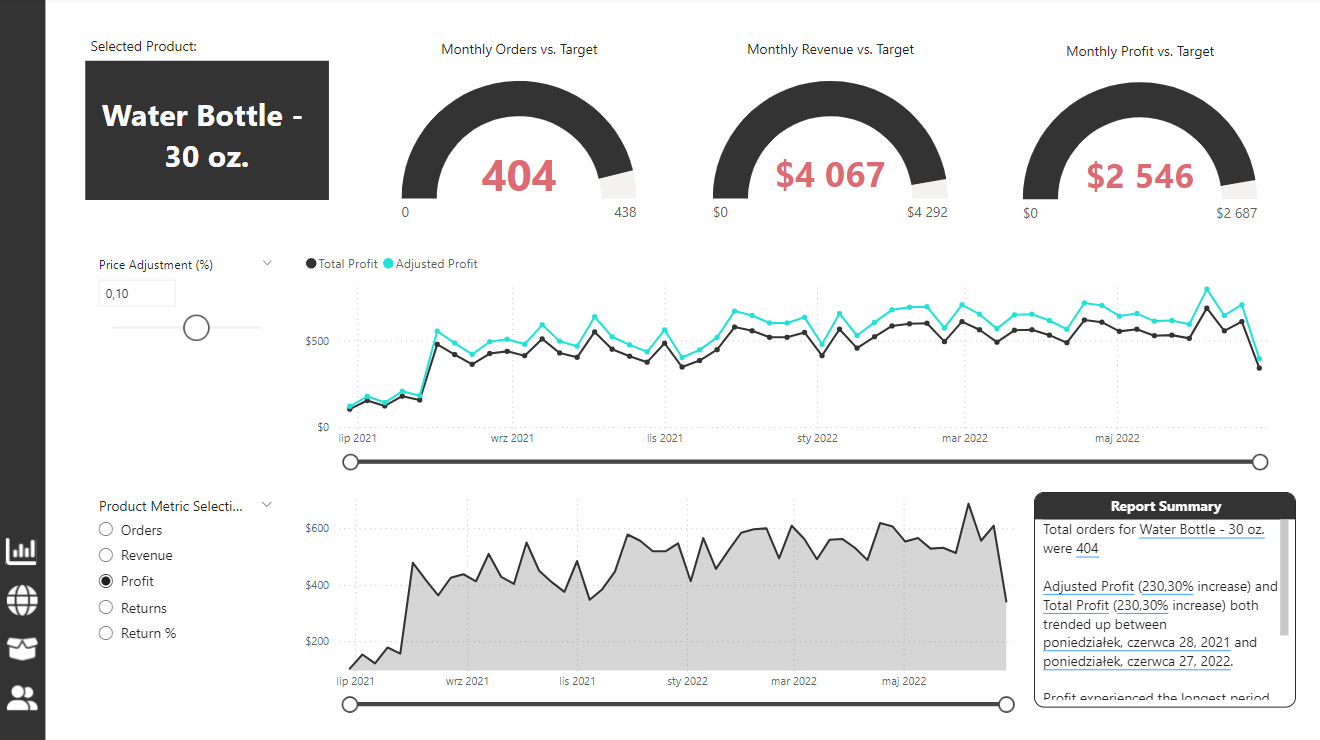

This screenshot's page, from the dashboard's own definition file:
{"tool":"powerbi","page":{"name":"Product Detail","canvas":[1280,720],"ordinal":2},"visuals":[{"type":"shape","box":[0,0,45,720],"z":0},{"type":"actionButton","box":[2.5,516.7,45.6,37.8],"z":0,"group":"g1"},{"type":"gauge","title":"Monthly Orders vs. Target","fields":{"Y":["Measure Table.Total Orders"],"MaxValue":["Measure Table.Order Target"]},"box":[383.7,41.5,236.9,203.7],"z":1000},{"type":"actionButton","box":[3.3,563.4,45.6,37.8],"z":1000,"group":"g1"},{"type":"gauge","title":"Monthly Revenue vs. Target","fields":{"Y":["Measure Table.Total Revenue"],"MaxValue":["Measure Table.Revenue Target"]},"box":[683.5,41.5,236.9,203.7],"z":2000},{"type":"actionButton","box":[3.3,611.1,45.6,37.8],"z":2000,"group":"g1"},{"type":"gauge","title":"Monthly Profit vs. Target","fields":{"Y":["Measure Table.Total Profit"],"MaxValue":["Measure Table.Profit Target"]},"box":[983.4,41.8,236.2,203.5],"z":3000},{"type":"actionButton","box":[3.3,657.8,45.6,37.8],"z":3000,"group":"g1"},{"type":"lineChart","title":"Profit Trending","fields":{"Category":["Calendar Lookup.Date Hierarchy.Year","Calendar Lookup.Date Hierarchy.Start of Month","Calendar Lookup.Date Hierarchy.Start of Week","Calendar Lookup.Date Hierarchy.Date"],"Y":["Measure Table.Total Profit","Measure Table.Adjusted Profit"]},"box":[290.5,237.4,952.8,221.5],"z":4000},{"type":"areaChart","title":"Return Trending","fields":{"Y":["Measure Table.Total Profit"],"Category":["Calendar Lookup.Date Hierarchy.Year","Calendar Lookup.Date Hierarchy.Start of Month","Calendar Lookup.Date Hierarchy.Start of Week","Calendar Lookup.Date Hierarchy.Date"]},"box":[290.5,471.3,708.7,221.5],"z":5000},{"type":"card","fields":{"Values":["Min(Product Lookup.ProductName)"]},"box":[83.6,61,235.1,134.5],"z":6000},{"type":"textbox","box":[83.6,32.8,136.8,36.2],"z":7000},{"type":"group","id":"g1","title":"Navigation Buttons","box":[2.5,516.7,46.4,178.9],"z":8000},{"type":"slicer","fields":{"Values":["Price Adjustment (%).Price Adjustment (%)"]},"box":[83.6,245.3,193.3,123.2],"z":9000},{"type":"slicer","fields":{"Values":["Product Metric Selection.Product Metric Selection"]},"box":[83.6,477,193.3,180.8],"z":10000},{"type":"textbox","title":"Report Summary","box":[999.2,478.1,253.2,208],"z":11000}]}

Visuals, with their boxes on the page's 1280x720 design canvas (x1, y1, x2, y2). These are canvas units, not pixel positions in the 1320x740 screenshot, which may show the page scaled, cropped or inside an application window:
shape: 0/0/45/720
actionButton: 2/517/48/554
"Monthly Orders vs. Target" gauge: 384/42/621/245
actionButton: 3/563/49/601
"Monthly Revenue vs. Target" gauge: 684/42/920/245
actionButton: 3/611/49/649
"Monthly Profit vs. Target" gauge: 983/42/1220/245
actionButton: 3/658/49/696
"Profit Trending" lineChart: 290/237/1243/459
"Return Trending" areaChart: 290/471/999/693
card - Min(Product Lookup.ProductName): 84/61/319/196
textbox: 84/33/220/69
"Navigation Buttons" group: 2/517/49/696
slicer - Price Adjustment (%).Price Adjustment (%): 84/245/277/368
slicer - Product Metric Selection.Product Metric Selection: 84/477/277/658
"Report Summary" textbox: 999/478/1252/686
